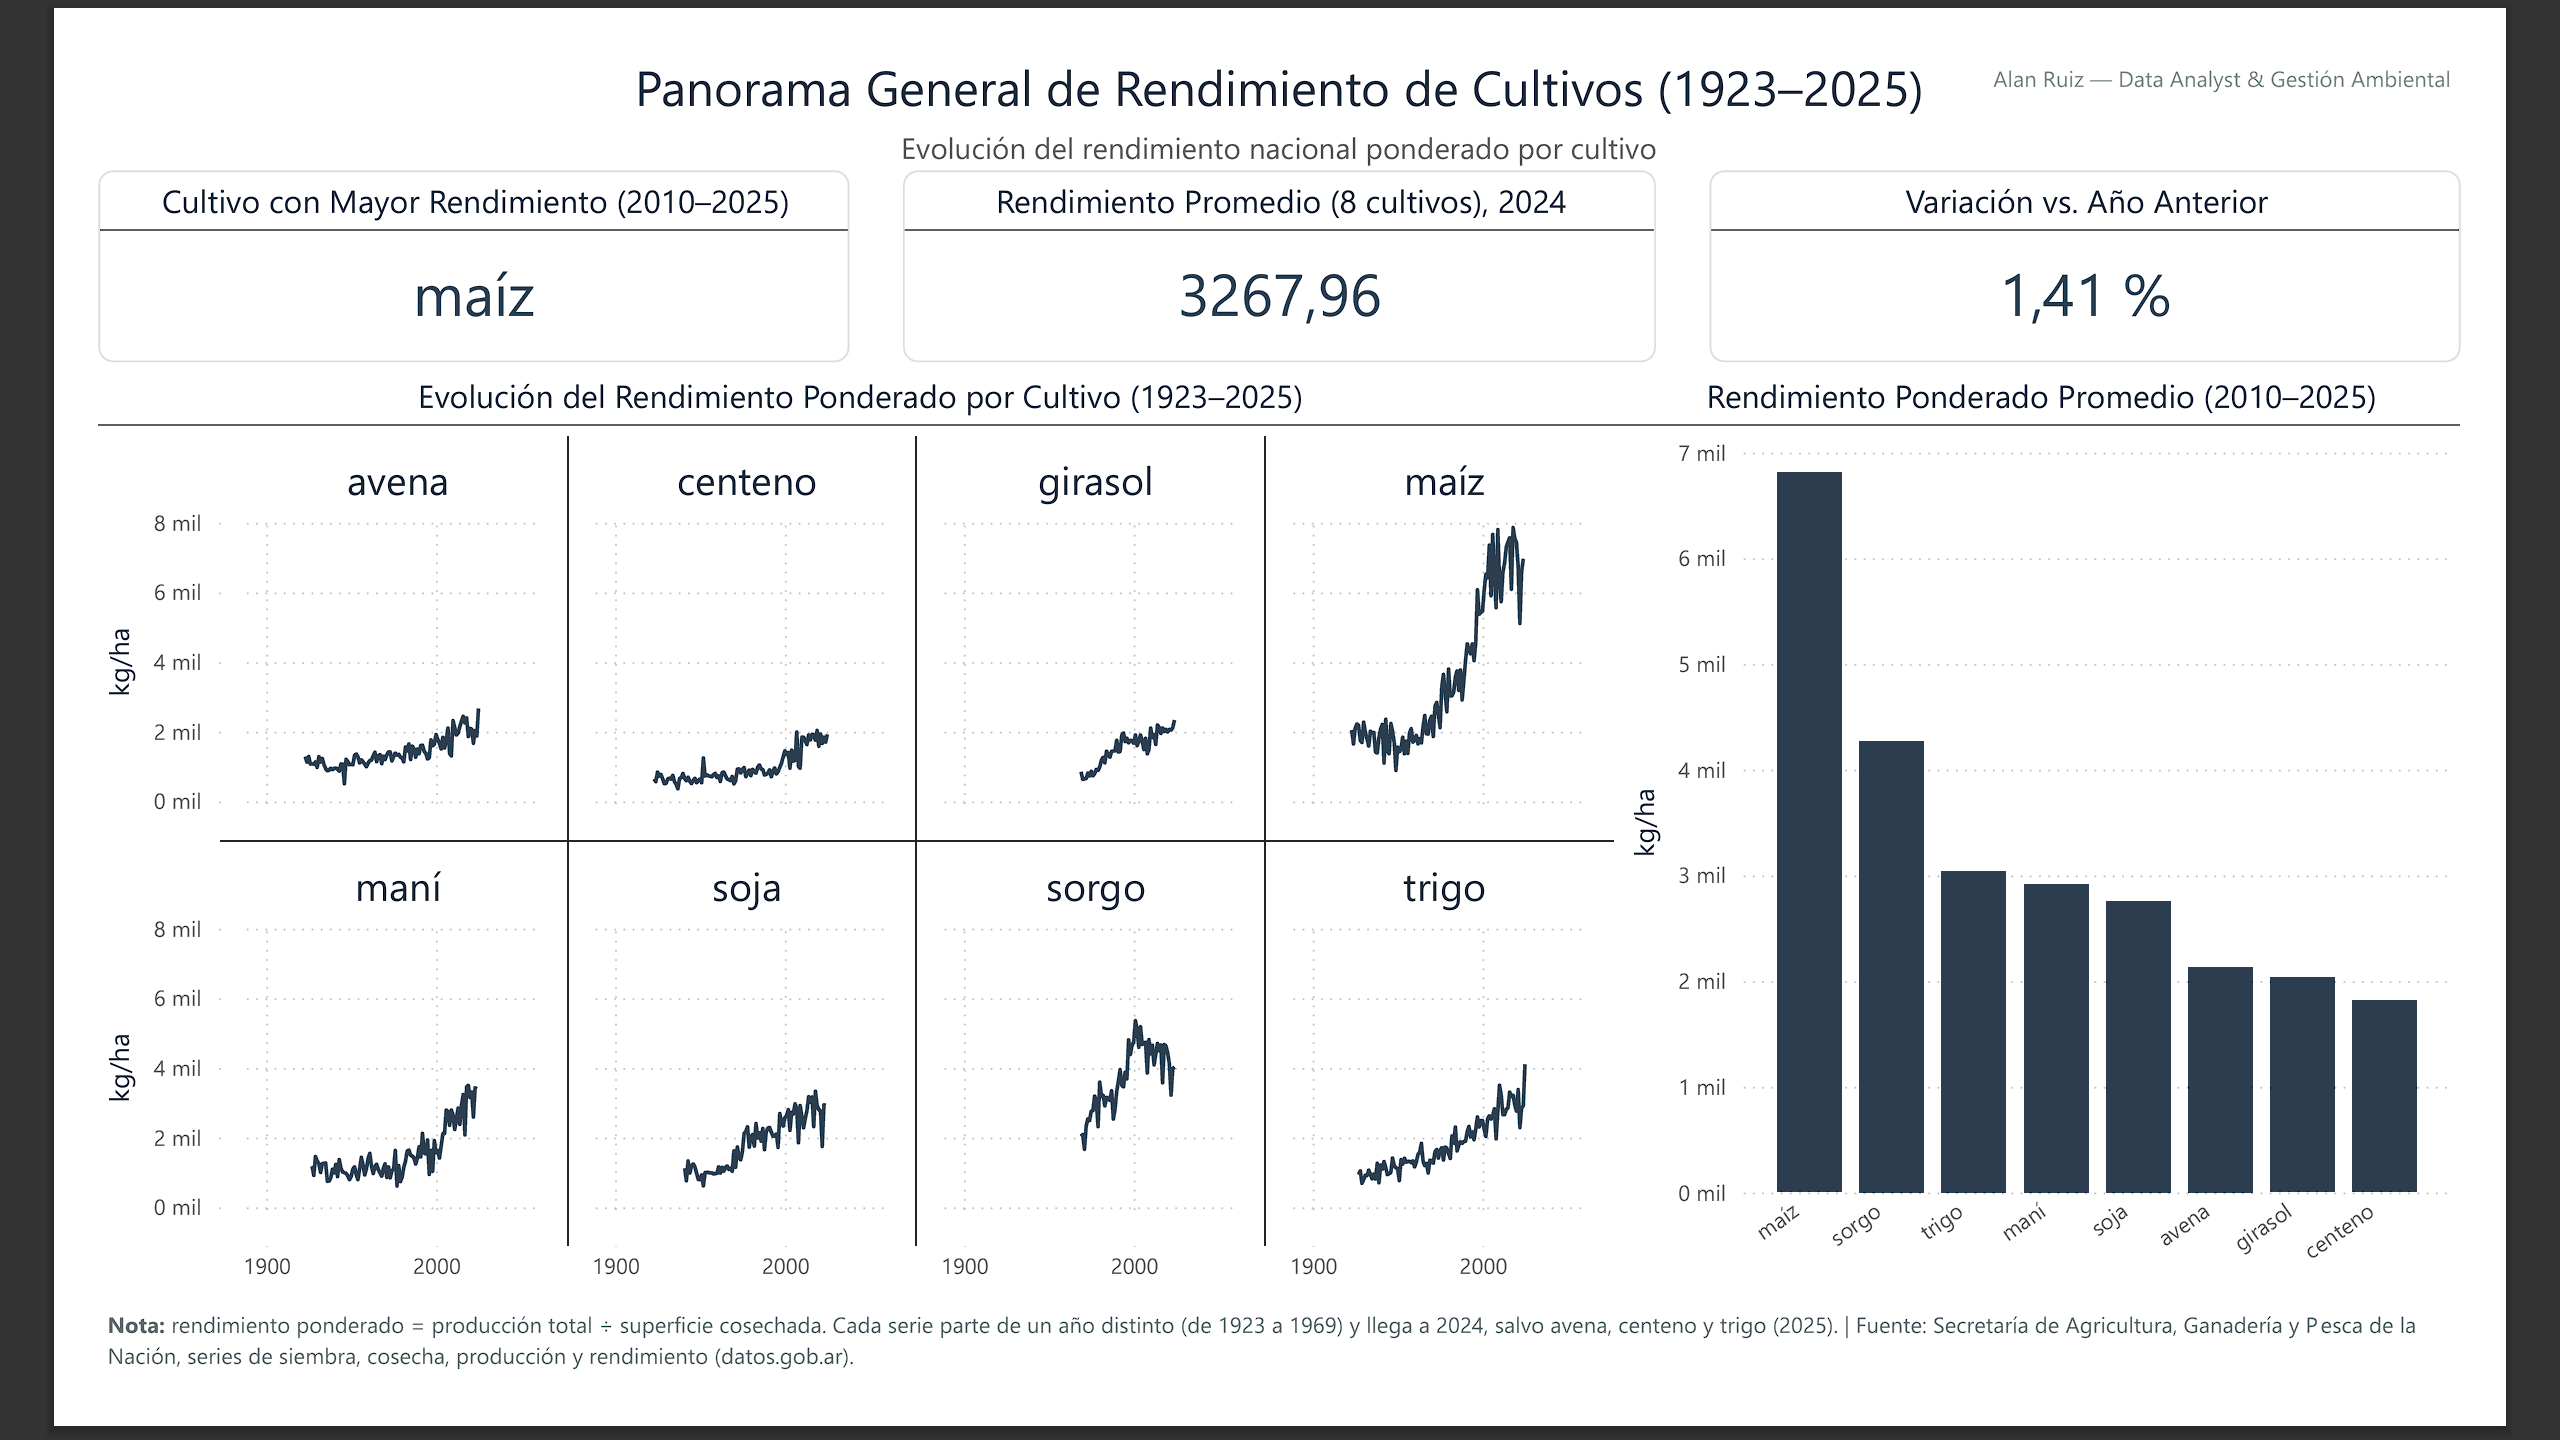

This screenshot's page, from the dashboard's own definition file:
{"tool":"powerbi","page":{"name":"Panorama General","canvas":[1280,720],"ordinal":0},"visuals":[{"type":"textbox","title":"Panorama General de Rendimiento de Cultivos (1923–2025)","box":[0,0,1280,64],"z":0},{"type":"textbox","box":[1008.4,0,271.6,28.1],"z":1000},{"type":"card","title":"Cultivo con Mayor Rendimiento (2010–2025)","fields":{"Values":["02-rendimiento_nacional_cultivo_anio.Cultivo Mayor Rendimiento"]},"box":[0,64.1,407,104],"z":2000},{"type":"card","title":"Rendimiento Promedio (8 cultivos), 2024","fields":{"Values":["02-rendimiento_nacional_cultivo_anio.Rendimiento Promedio Ultimo Anio"]},"box":[436.5,64.1,407,104],"z":3000},{"type":"card","title":"Variación vs. Año Anterior","fields":{"Values":["02-rendimiento_nacional_cultivo_anio.Variación Interanual %"]},"box":[873,64.1,407,104],"z":4000},{"type":"lineChart","title":"Evolución del Rendimiento Ponderado por Cultivo (1923–2025)","fields":{"Category":["02-rendimiento_nacional_cultivo_anio.anio"],"Y":["Sum(02-rendimiento_nacional_cultivo_anio.rendimiento_ponderado_kgxha)"],"Rows":["02-rendimiento_nacional_cultivo_anio.cultivo"]},"box":[0,174.1,825.8,501.3],"z":5000},{"type":"columnChart","title":"Rendimiento Ponderado Promedio (2010–2025)","fields":{"Category":["Dim_Cultivo.cultivo"],"Y":["02-rendimiento_nacional_cultivo_anio.Rendimiento Ponderado Promedio"]},"box":[825.8,174.1,454.2,501.9],"z":6000},{"type":"textbox","box":[0,675.3,1280,44.5],"z":7000}]}

Visuals, with their boxes in screenshot pixels (x1, y1, x2, y2), scaled from the page's 1280x720 canvas onto the 2560x1440 screenshot:
"Panorama General de Rendimiento de Cultivos (1923–2025)" textbox: BBox(0, 0, 2559, 128)
textbox: BBox(2017, 0, 2559, 56)
"Cultivo con Mayor Rendimiento (2010–2025)" card: BBox(0, 128, 814, 336)
"Rendimiento Promedio (8 cultivos), 2024" card: BBox(873, 128, 1687, 336)
"Variación vs. Año Anterior" card: BBox(1746, 128, 2559, 336)
"Evolución del Rendimiento Ponderado por Cultivo (1923–2025)" lineChart: BBox(0, 348, 1652, 1351)
"Rendimiento Ponderado Promedio (2010–2025)" columnChart: BBox(1652, 348, 2559, 1352)
textbox: BBox(0, 1351, 2559, 1439)
